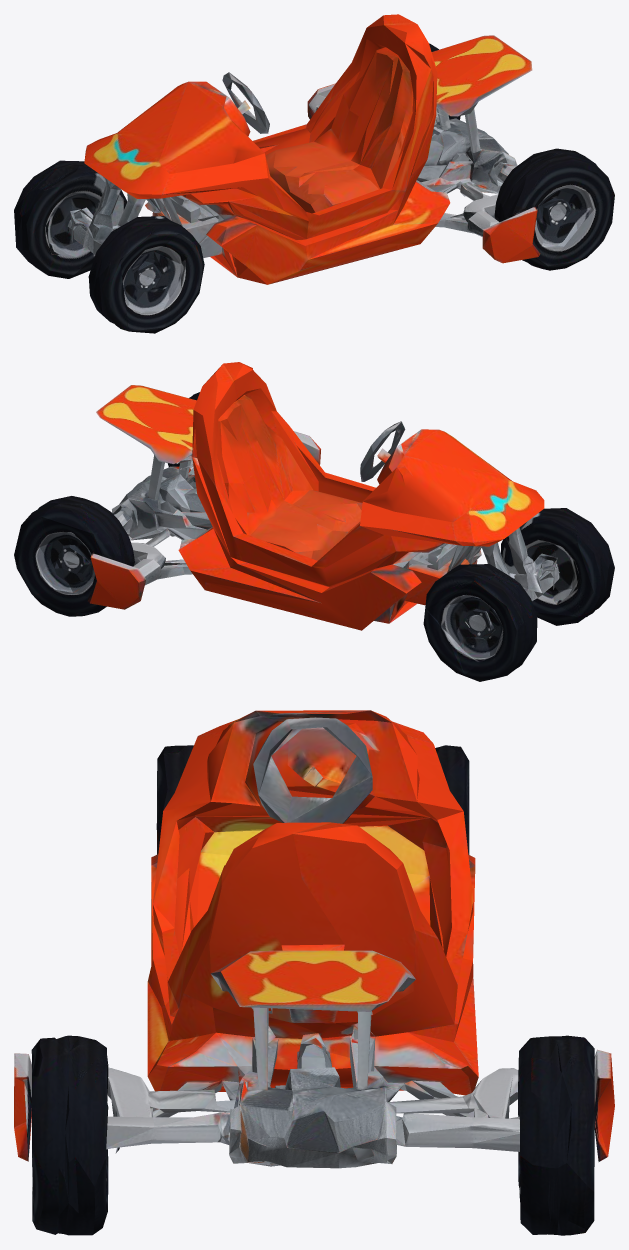
File: kart-bonk-gloss.glb
3 views of the same model, one above another, from view 1: azimuth 30°, elevation 25°; view 2: azimuth 150°, elevation 25°; view 3: azimuth 270°, elevation 25° (orthographic). The views are drawn at different scales.
Size of the model in its own units: 1.9 by 0.794 by 1.27.
1 material, 1 textured.
